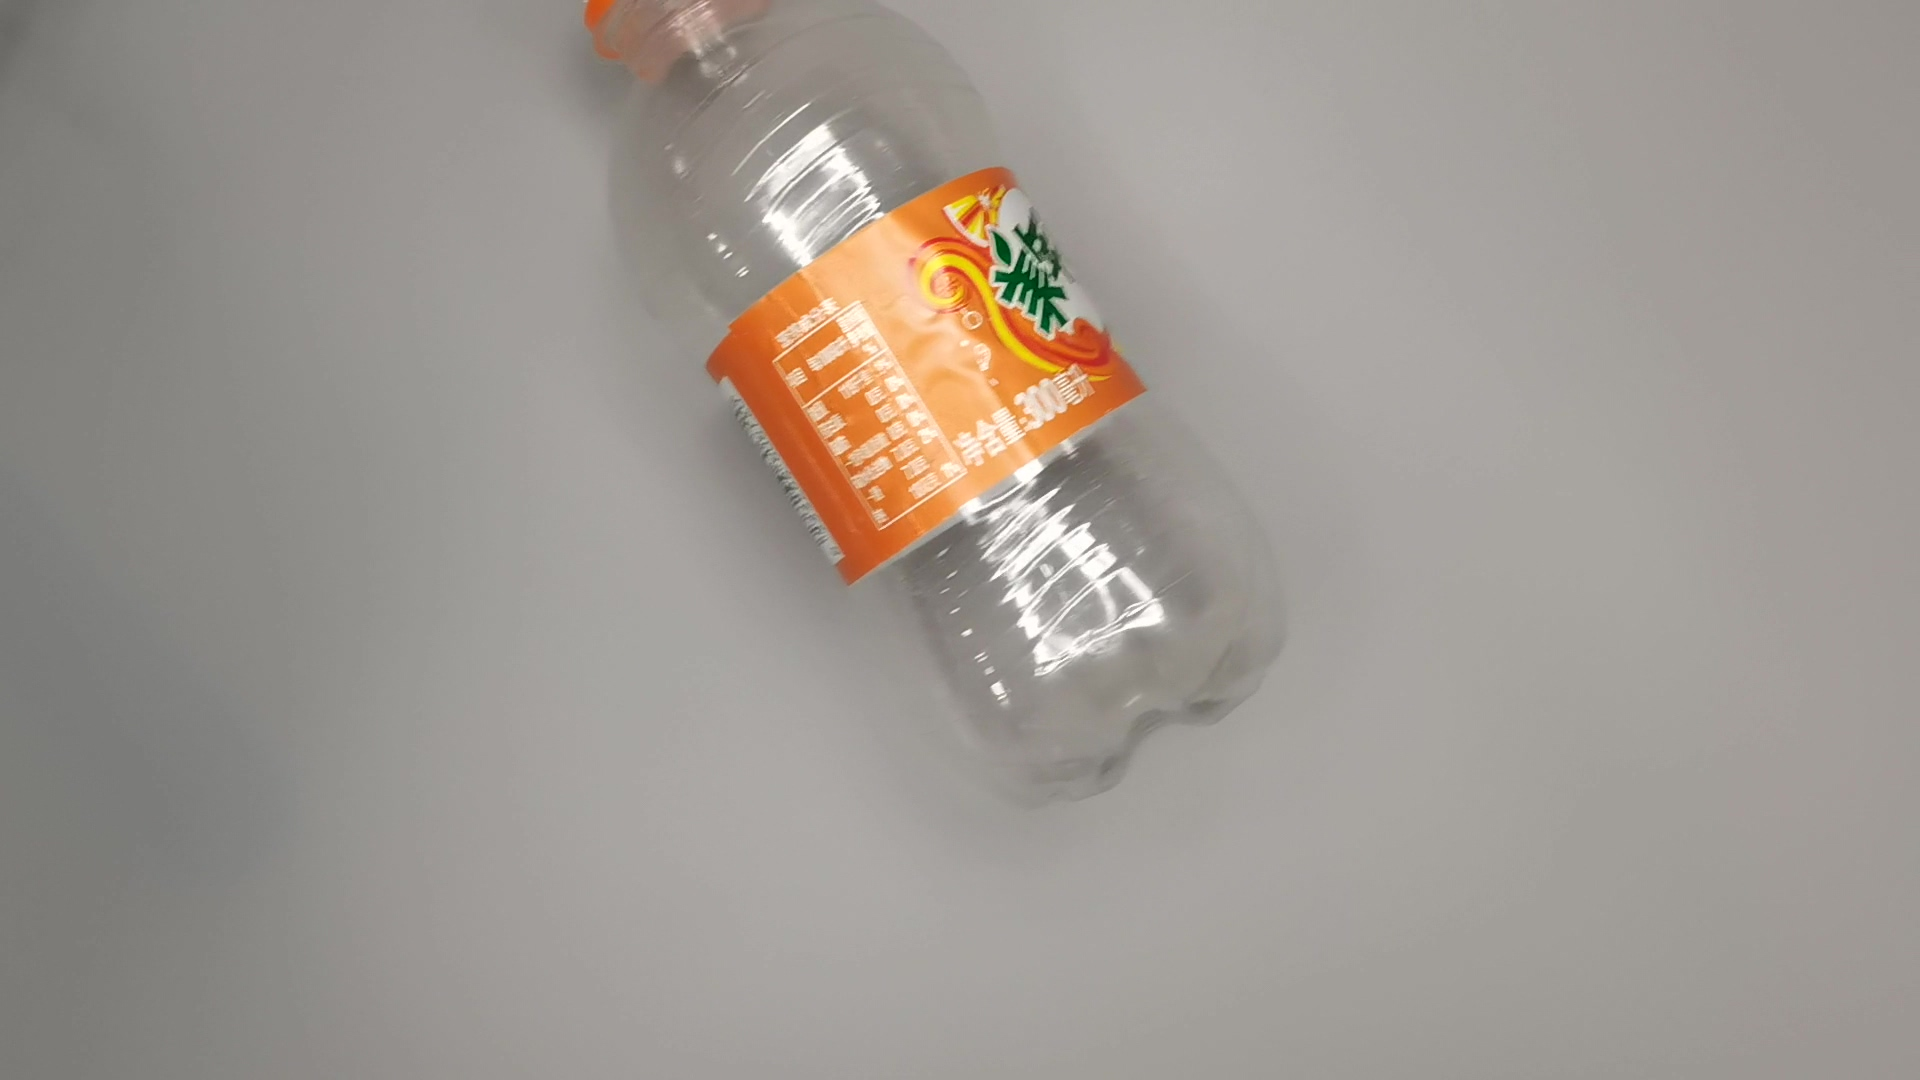bottle: (563, 1, 1296, 823)
